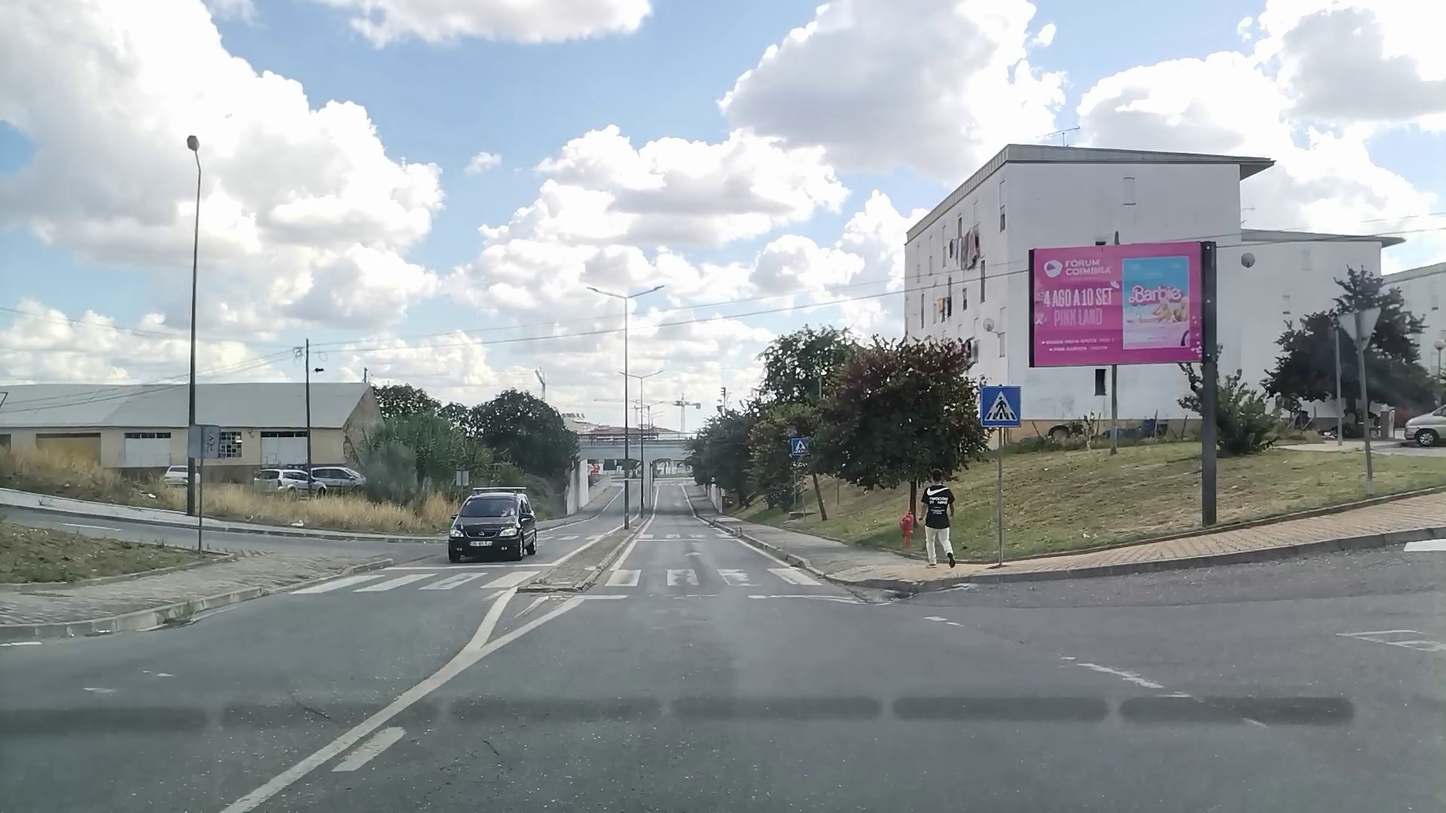Stairs: (292, 566, 826, 595), (635, 528, 732, 543)
